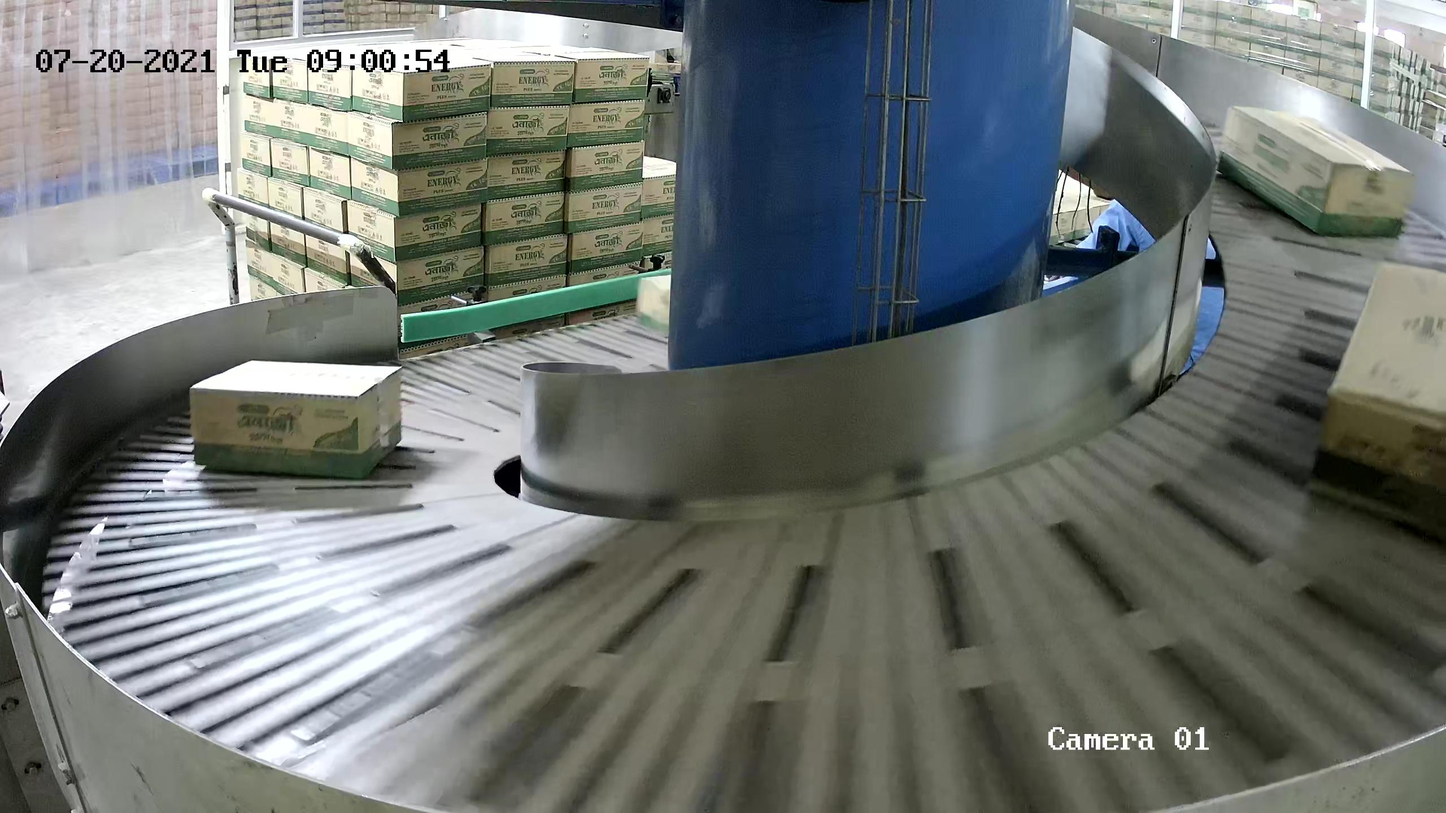Box: (1306, 259, 1446, 528), (1214, 103, 1412, 238), (188, 358, 404, 481), (635, 273, 671, 341)
